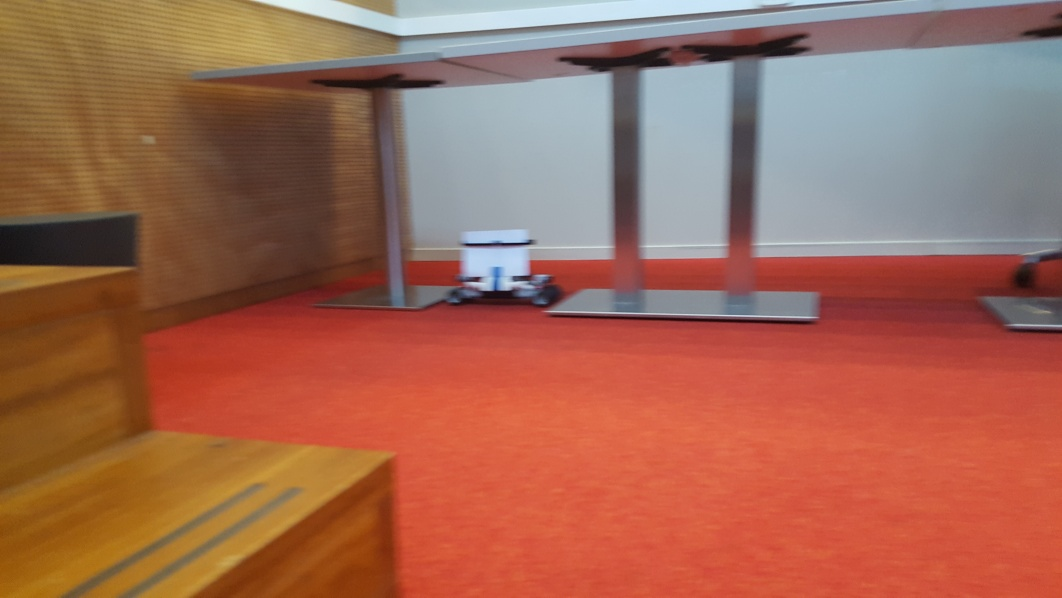car: (446, 229, 565, 309)
